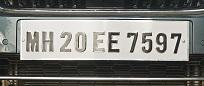0: (91, 30, 105, 54), (73, 31, 87, 53)
2: (59, 30, 73, 54)
5: (140, 31, 153, 54)
7: (169, 31, 183, 55), (126, 31, 140, 54)
9: (155, 32, 167, 53)
E: (107, 30, 121, 54)
H: (41, 30, 55, 53)
M: (24, 30, 39, 53)
